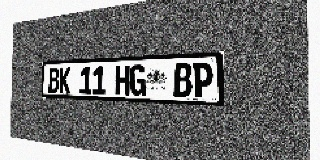1: (92, 66, 105, 95), (79, 66, 92, 94)
B: (173, 63, 192, 97), (48, 68, 59, 93)
G: (130, 65, 146, 96)
H: (115, 65, 130, 95)
K: (59, 67, 71, 93)
P: (193, 62, 213, 98)
